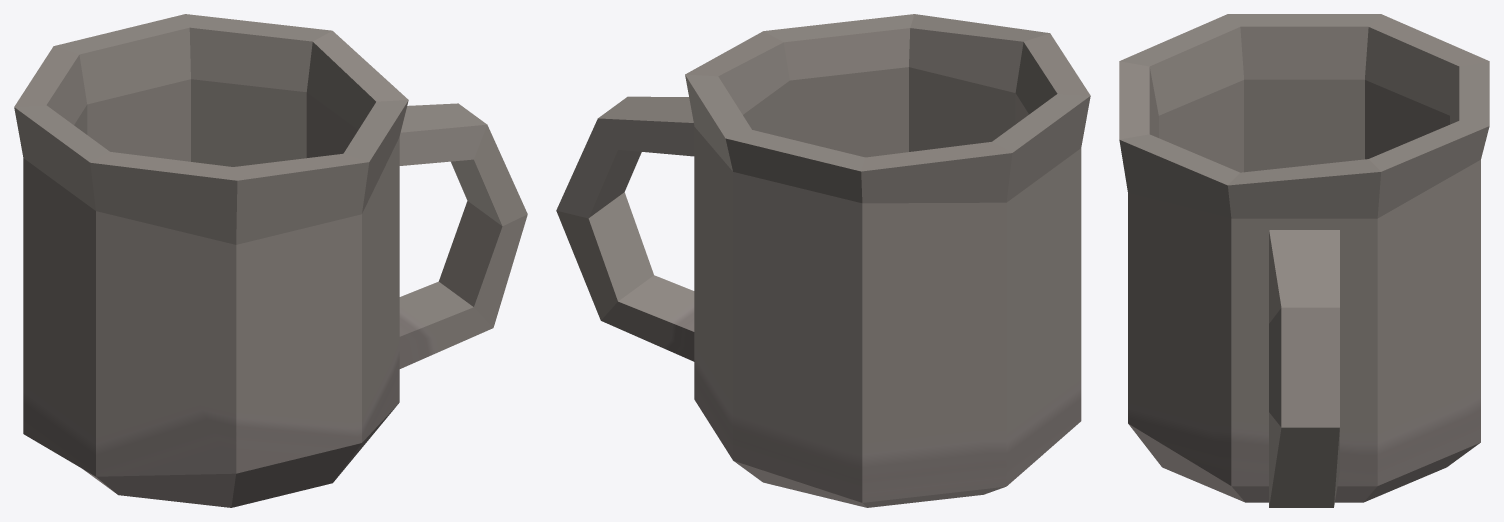
The model's file is SM_Metal_Mug.fbx.
3 renders of one model, left to right at view 1: azimuth 30°, elevation 25°; view 2: azimuth 150°, elevation 25°; view 3: azimuth 270°, elevation 25°, orthographic. The views are drawn at different scales.
Parts seen in each view (by area): view 1: SM_Metal_Mug; view 2: SM_Metal_Mug; view 3: SM_Metal_Mug.
Boxes of the visible parts, x1,y1,x2,y2 form: SM_Metal_Mug: (14, 14, 527, 507); SM_Metal_Mug: (556, 14, 1090, 507); SM_Metal_Mug: (1119, 14, 1489, 507).
Size of the model in its own units: 24.42 by 17.49 by 16.75.
